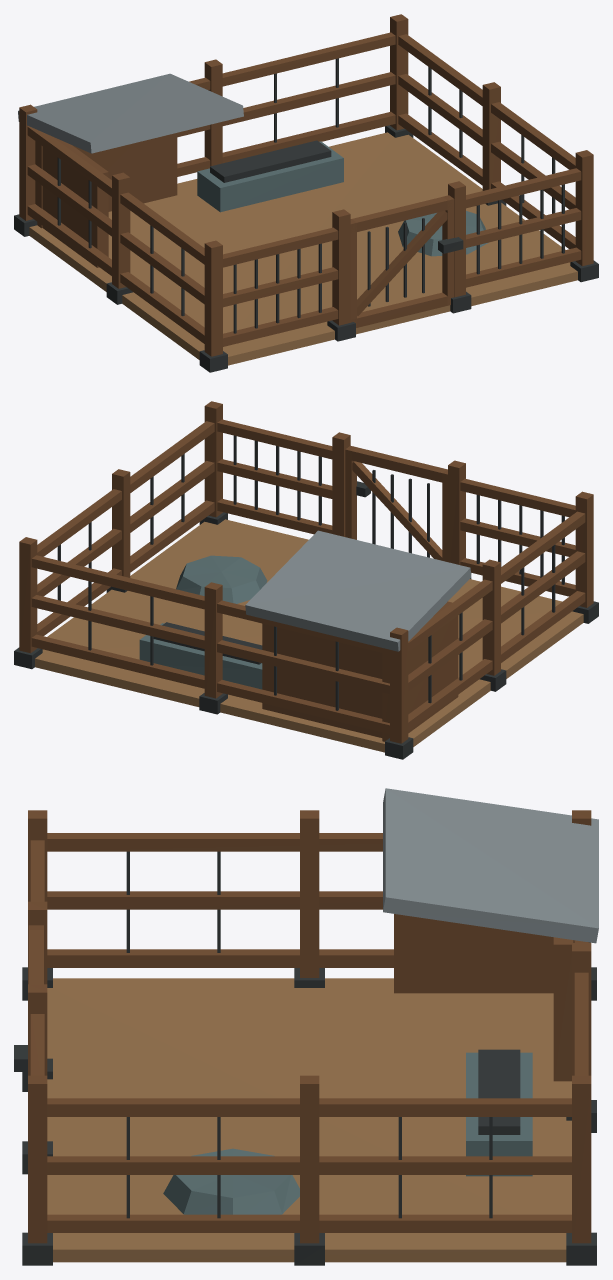
Rendered from Goose-Pen.glb.
3 views of the same model, one above another, from view 1: azimuth 30°, elevation 25°; view 2: azimuth 150°, elevation 25°; view 3: azimuth 270°, elevation 25° (orthographic). The views are drawn at different scales.
Visible parts, largest first — view 1: goose-pen-static-goose-pen-weathered-timber-mat, goose-pen-static-goose-pen-compacted-earth-mat, goose-pen-static-goose-pen-dark-wire-iron-mat, goose-pen-static-goose-pen-galvanized-canopy-mat, goose-pen-static-goose-pen-blue-grey-fixture-mat; view 2: goose-pen-static-goose-pen-weathered-timber-mat, goose-pen-static-goose-pen-compacted-earth-mat, goose-pen-static-goose-pen-galvanized-canopy-mat, goose-pen-static-goose-pen-dark-wire-iron-mat, goose-pen-static-goose-pen-blue-grey-fixture-mat; view 3: goose-pen-static-goose-pen-compacted-earth-mat, goose-pen-static-goose-pen-weathered-timber-mat, goose-pen-static-goose-pen-galvanized-canopy-mat, goose-pen-static-goose-pen-dark-wire-iron-mat, goose-pen-static-goose-pen-blue-grey-fixture-mat.
Boxes of the visible parts, left/top/right/bottom form: goose-pen-static-goose-pen-weathered-timber-mat: left=19, top=14, right=593, bottom=356; goose-pen-static-goose-pen-compacted-earth-mat: left=29, top=132, right=577, bottom=365; goose-pen-static-goose-pen-dark-wire-iron-mat: left=14, top=58, right=598, bottom=372; goose-pen-static-goose-pen-galvanized-canopy-mat: left=18, top=73, right=243, bottom=153; goose-pen-static-goose-pen-blue-grey-fixture-mat: left=197, top=141, right=488, bottom=256; goose-pen-static-goose-pen-weathered-timber-mat: left=19, top=401, right=593, bottom=743; goose-pen-static-goose-pen-compacted-earth-mat: left=35, top=519, right=583, bottom=752; goose-pen-static-goose-pen-galvanized-canopy-mat: left=245, top=530, right=471, bottom=651; goose-pen-static-goose-pen-dark-wire-iron-mat: left=14, top=435, right=598, bottom=759; goose-pen-static-goose-pen-blue-grey-fixture-mat: left=139, top=555, right=267, bottom=689; goose-pen-static-goose-pen-compacted-earth-mat: left=47, top=978, right=571, bottom=1262; goose-pen-static-goose-pen-weathered-timber-mat: left=28, top=810, right=591, bottom=1243; goose-pen-static-goose-pen-galvanized-canopy-mat: left=383, top=788, right=598, bottom=943; goose-pen-static-goose-pen-dark-wire-iron-mat: left=14, top=851, right=596, bottom=1265; goose-pen-static-goose-pen-blue-grey-fixture-mat: left=163, top=1052, right=532, bottom=1214.
Size of the model in its own units: 4.72 by 1.6 by 4.19.
